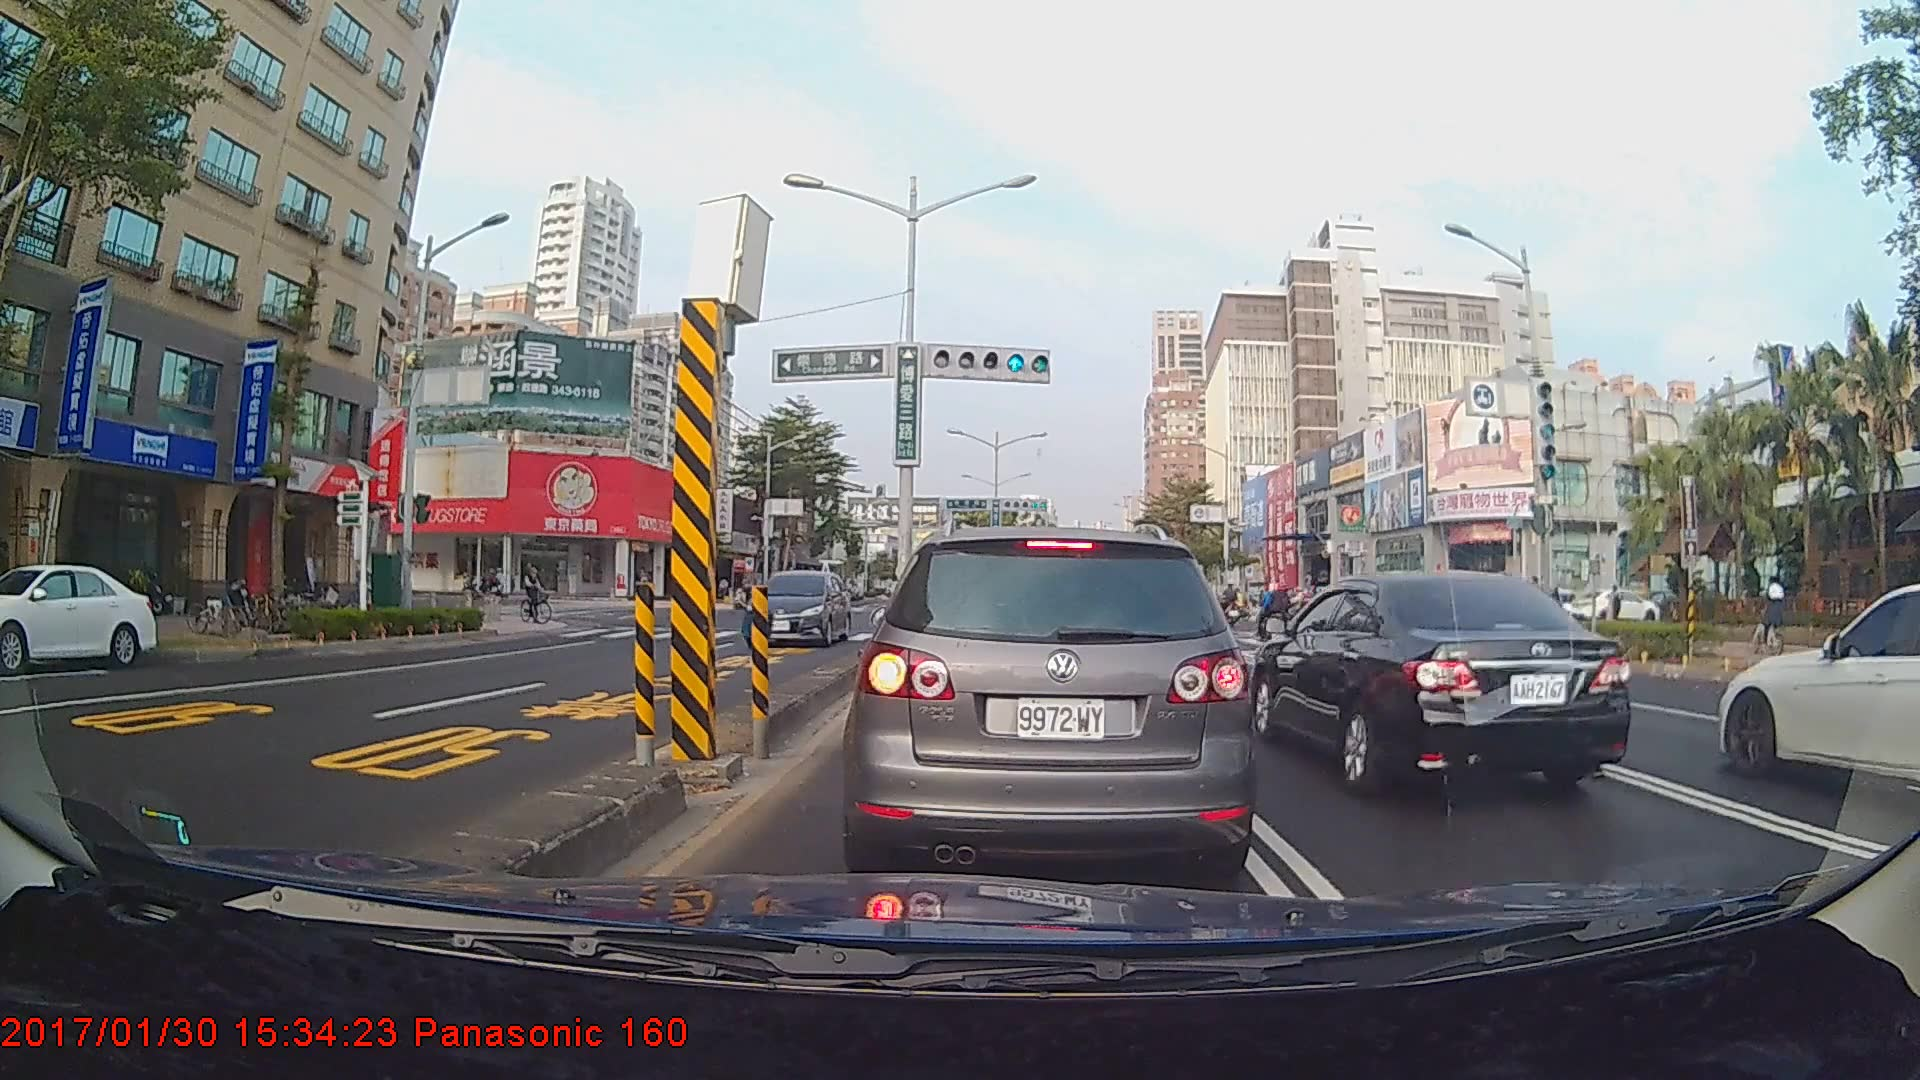pedestrian: (1604, 581, 1625, 640)
rider: (1746, 578, 1795, 654), (1254, 581, 1303, 647), (518, 559, 561, 629), (470, 564, 514, 603)
vehicle: (853, 524, 1249, 880), (1244, 568, 1631, 799), (1720, 579, 1919, 817), (0, 561, 158, 671), (739, 569, 854, 648)
